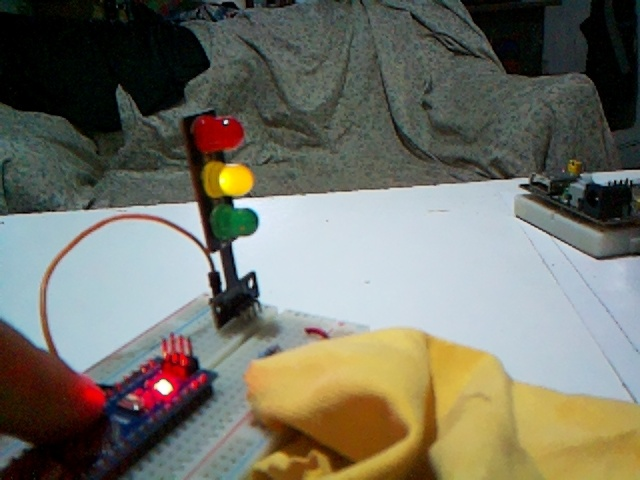traffic_light_yellow: (183, 112, 261, 330)
